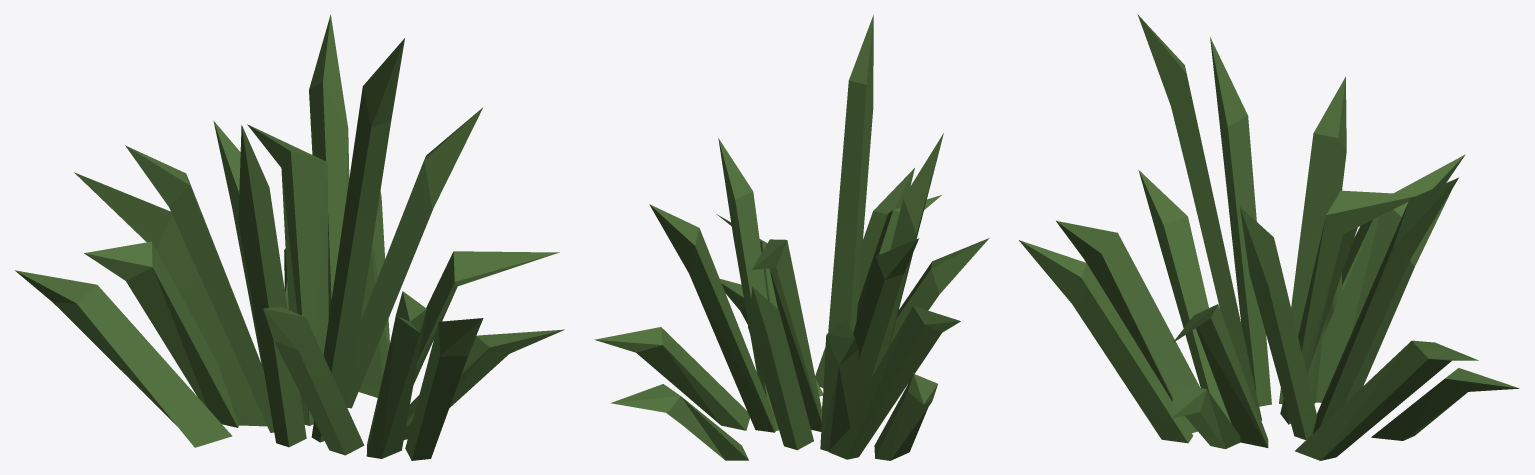
Rendered from SM_Generic_Grass_Patch_02_372.obj.
The picture shows the model from 3 angles, left to right: view 1: azimuth 30°, elevation 25°; view 2: azimuth 150°, elevation 25°; view 3: azimuth 270°, elevation 25°; orthographic projection. The views are drawn at different scales.
Visible parts, largest first — view 1: SM_Generic_Grass_Patch_02_0; view 2: SM_Generic_Grass_Patch_02_0; view 3: SM_Generic_Grass_Patch_02_0.
Boxes of the visible parts, x1,y1,x2,y2 form: SM_Generic_Grass_Patch_02_0: (15,14,564,460); SM_Generic_Grass_Patch_02_0: (594,15,989,460); SM_Generic_Grass_Patch_02_0: (1019,14,1519,460).
Size of the model in its own units: 1.11 by 1.16 by 1.29.
Materials: 1 (1 with a texture image).
